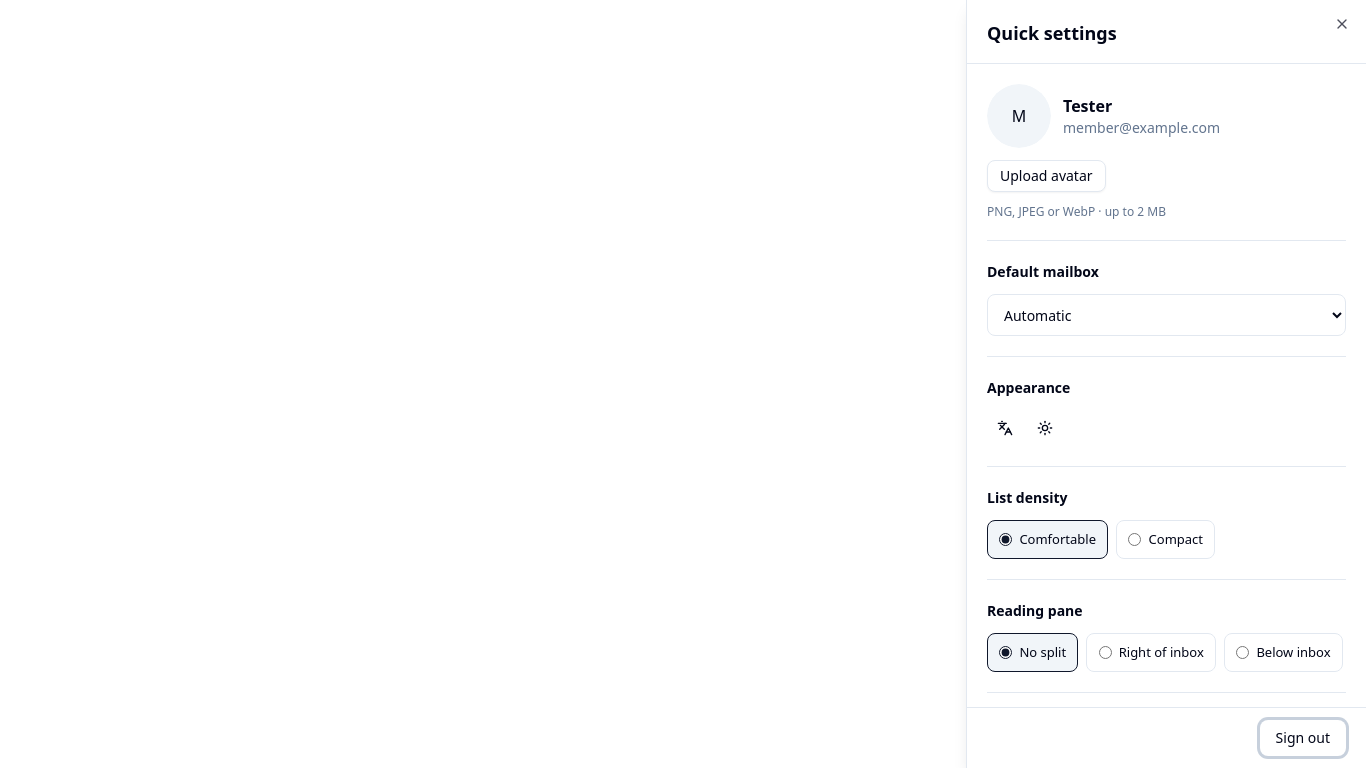
Test: keeps the last saved choice and displays localized code-based errors when a write fails
The image size is (1366, 768).
Click the radio button labelled "Compact": (1135, 540) x1=1128 y1=533 x2=1141 y2=546
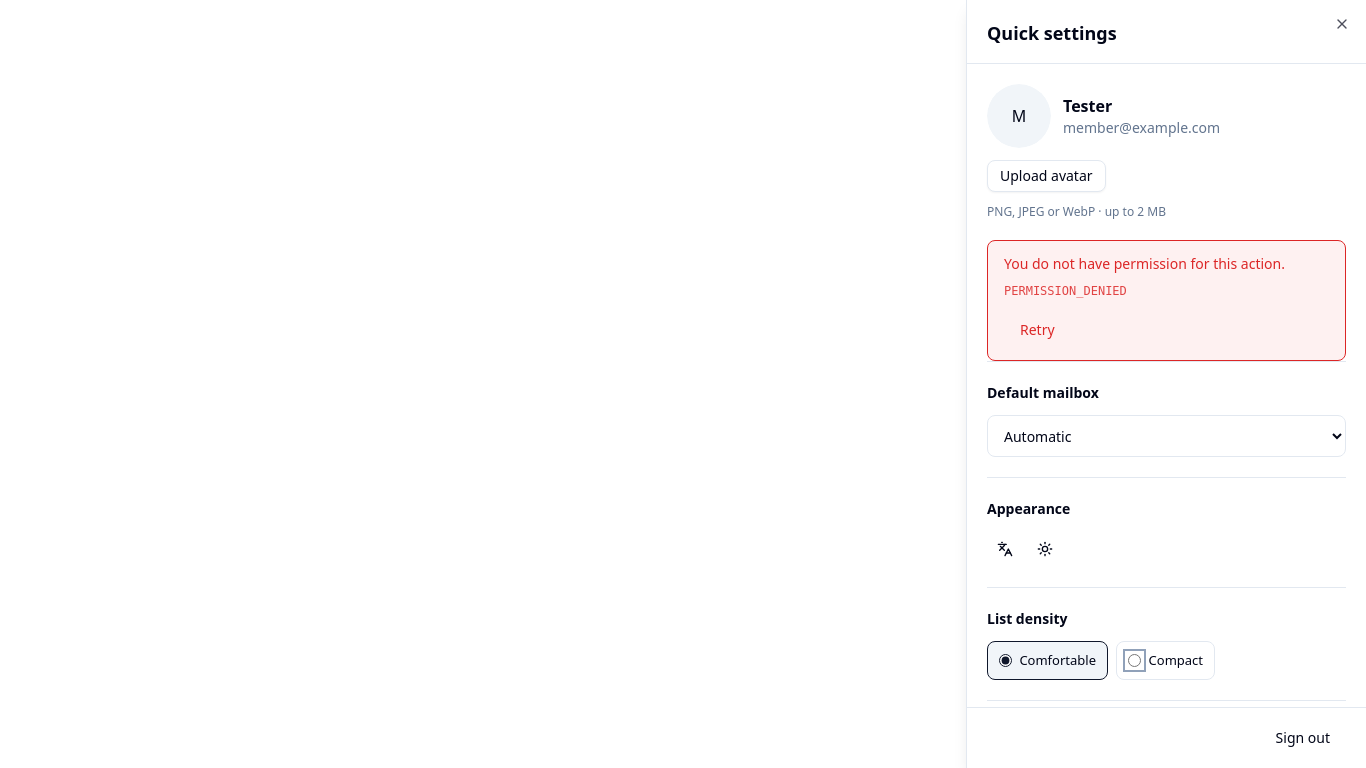
expect the radio button labelled "Comfortable" is checked: met, box x1=999 y1=654 x2=1012 y2=667
expect the message shows "You do not have permission for this action.": met, box x1=1004 y1=254 x2=1285 y2=273
